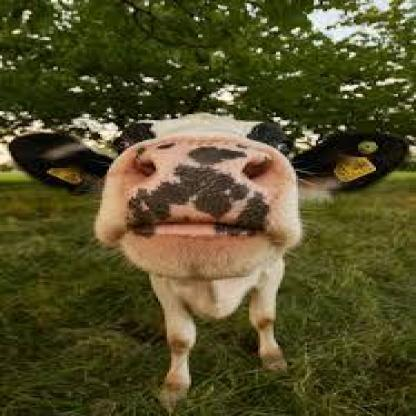cow: (7, 110, 407, 398)
